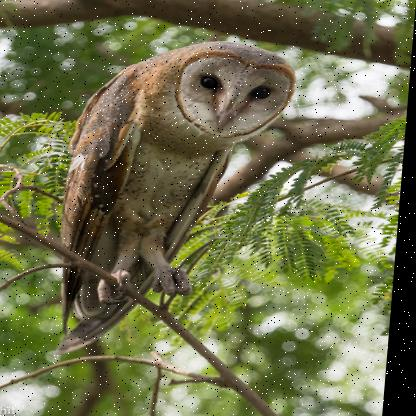Burung: (51, 42, 300, 353)
